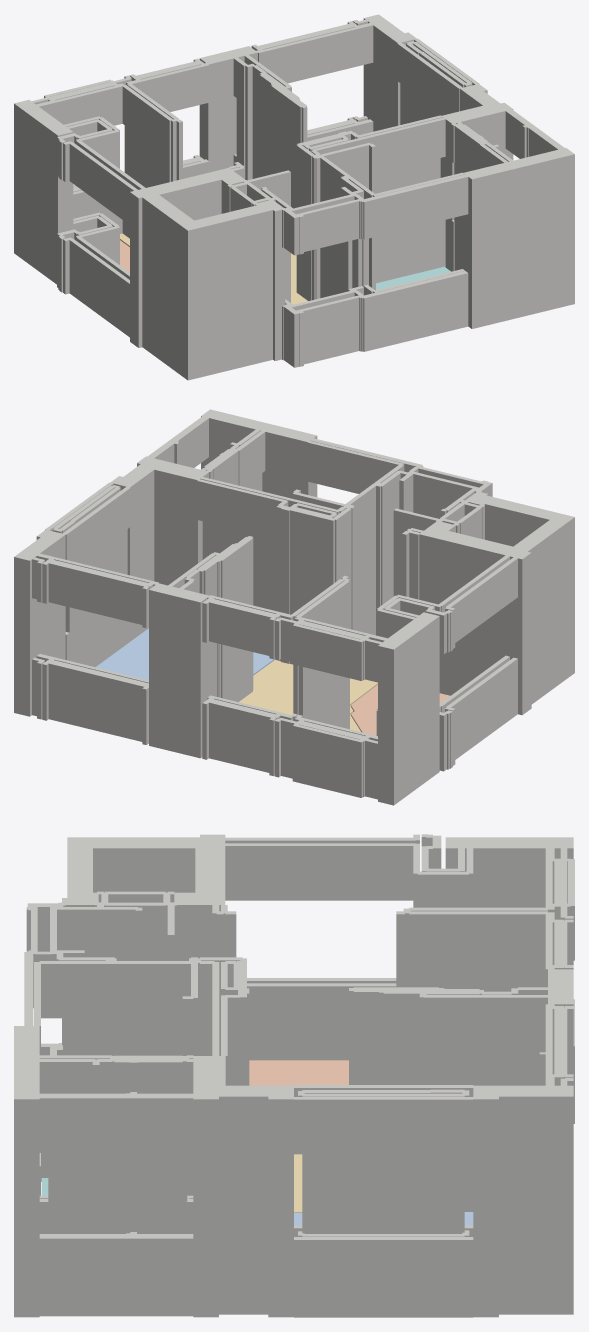
3 renders of one model, top to bottom at view 1: azimuth 30°, elevation 25°; view 2: azimuth 150°, elevation 25°; view 3: azimuth 270°, elevation 25°, orthographic. The views are drawn at different scales.
Parts seen in each view (by area): view 1: walls, room:bath:1; view 2: walls, room:living:0, room:bedroom:4, room:kitchen:5; view 3: walls, room:kitchen:5.
Boxes of the visible parts, left/top/right/bottom form: walls: left=14, top=14, right=574, bottom=380; room:bath:1: left=376, top=266, right=450, bottom=289; walls: left=14, top=409, right=574, bottom=805; room:living:0: left=239, top=659, right=377, bottom=731; room:bedroom:4: left=96, top=628, right=274, bottom=680; room:kitchen:5: left=351, top=685, right=450, bottom=735; walls: left=14, top=834, right=574, bottom=1317; room:kitchen:5: left=249, top=1060, right=348, bottom=1085.
Bounding box in the file's own units: 7.32 × 2.8 × 6.53.
